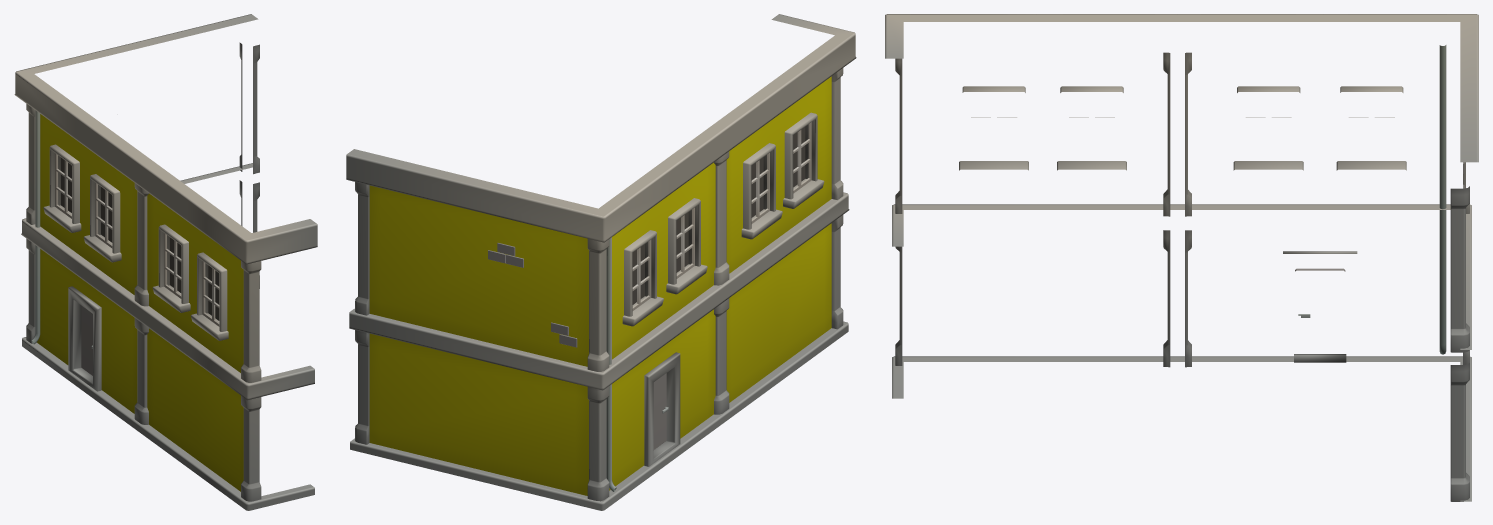
The model's file is Apartments04.glb.
3 views of the same model, side by side, from view 1: azimuth 30°, elevation 25°; view 2: azimuth 150°, elevation 25°; view 3: azimuth 270°, elevation 25° (orthographic). The views are drawn at different scales.
Parts seen in each view (by area): view 1: Apartments04; view 2: Apartments04; view 3: Apartments04.
Boxes of the visible parts, <box> form: Apartments04: <box>14,14,317,510</box>; Apartments04: <box>346,14,856,510</box>; Apartments04: <box>885,14,1478,501</box>.
Size of the model in its own units: 10.6 by 11.66 by 17.96.
2 materials, 1 textured.
